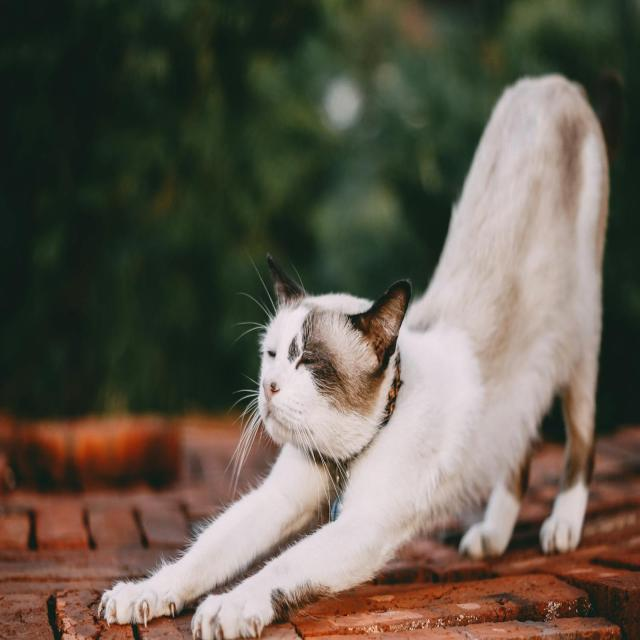Cat: (96, 71, 614, 638)
